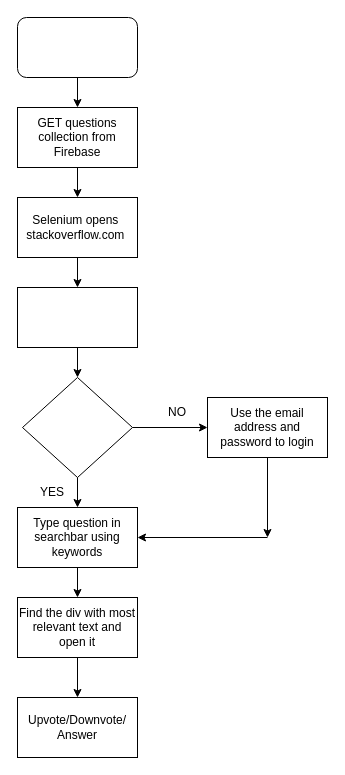
Image size: 345x775. Some labels were removed from this diagram. The shapes that lost their labels are listed below. From the top down, each one's centre as x and y in pixels, then its label:
pixel 77 47: START
pixel 77 317: Loop through the questions array
pixel 77 427: User logged in?
